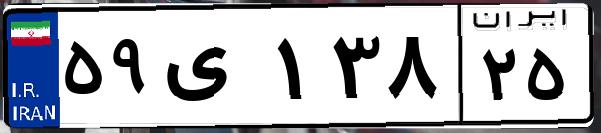1: (270, 28, 330, 110)
2: (475, 38, 525, 113)
3: (330, 28, 385, 110)
5: (57, 26, 110, 100), (525, 38, 570, 115)
8: (385, 28, 445, 110)
9: (110, 28, 158, 98)
ی: (158, 20, 270, 120)
